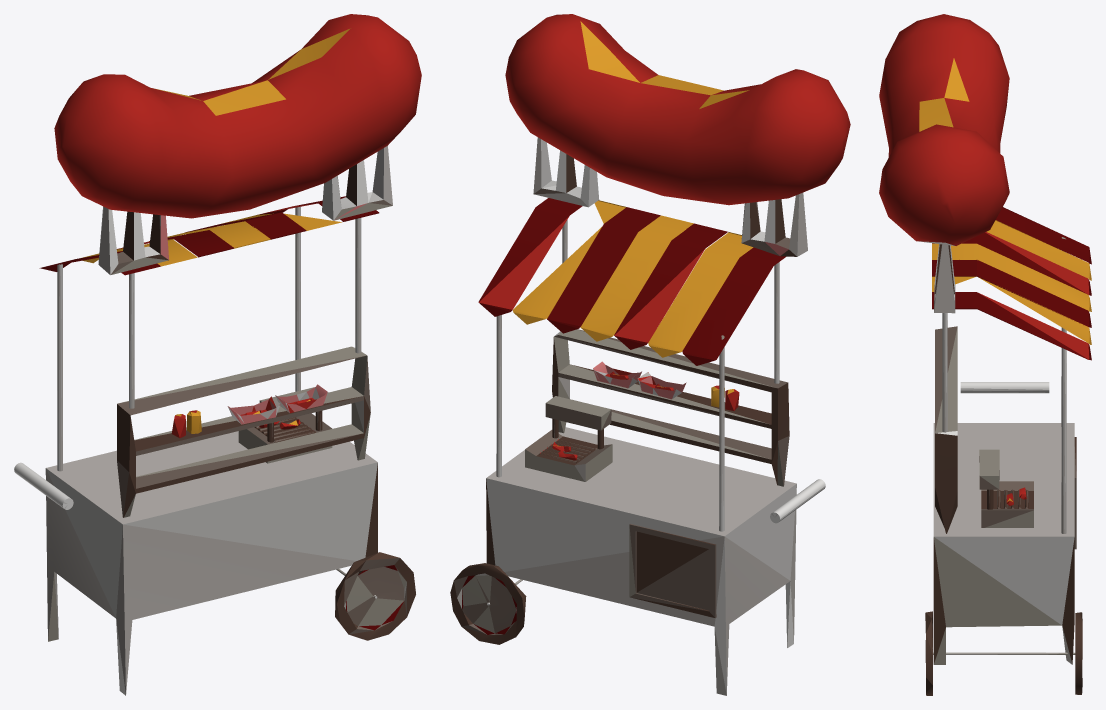
File: hotdog-stand.glb
The picture shows the model from 3 angles, left to right: view 1: azimuth 30°, elevation 25°; view 2: azimuth 150°, elevation 25°; view 3: azimuth 270°, elevation 25°; orthographic projection. The views are drawn at different scales.
Visible parts, largest first — view 1: c0, c1, c7, c2, c6, c9, c4, c8, c3, c5; view 2: c0, c1, c7, c8, c4, c2, c6, c9, c3, c5; view 3: c0, c1, c7, c9, c4, c8, c2, c6, c3.
Part boxes in pixels (x1,y1,x2,y2): c0: (54,14,421,438); c1: (45,145,406,694); c7: (22,148,383,617); c2: (117,164,415,640); c6: (111,200,406,634); c9: (48,176,406,641); c4: (80,28,350,433); c8: (39,196,403,630); c3: (14,160,377,695); c5: (160,203,367,424); c0: (479,14,850,460); c1: (457,137,807,695); c7: (486,139,825,693); c8: (462,198,785,634); c4: (513,21,753,446); c2: (450,154,796,644); c6: (454,188,790,634); c9: (462,329,783,633); c3: (487,150,825,647); c5: (593,242,788,399); c0: (879,14,1089,505); c1: (919,241,1074,664); c7: (934,282,1074,625); c9: (932,237,1075,664); c4: (919,58,1091,502); c8: (932,207,1091,360); c2: (925,244,1082,695); c6: (925,300,1076,632); c3: (934,244,1065,482).
Size of the model in its own units: 2.54 by 4.19 by 1.45.
